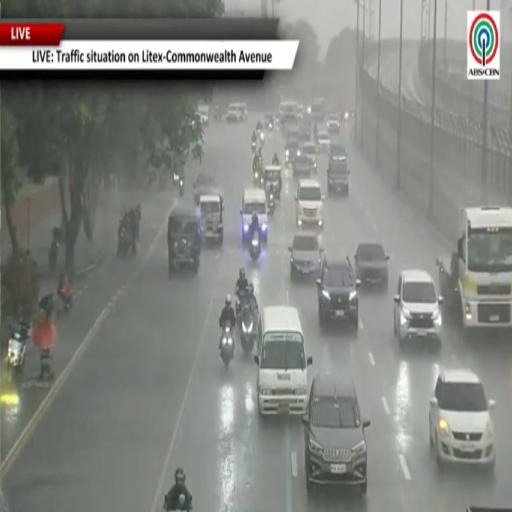car: (303, 374, 370, 493), (429, 370, 495, 470), (394, 269, 443, 348), (316, 256, 360, 331), (168, 206, 201, 276), (289, 232, 323, 280), (354, 243, 389, 289), (240, 189, 267, 244), (295, 180, 324, 228), (200, 195, 223, 245), (193, 173, 222, 205), (327, 158, 349, 196), (292, 147, 311, 178), (308, 98, 326, 122), (303, 141, 317, 171), (285, 138, 299, 165), (329, 142, 347, 161), (226, 104, 242, 122), (197, 104, 209, 127), (318, 132, 330, 153), (327, 115, 340, 133)
motorcycle: (6, 322, 32, 381), (220, 322, 234, 370), (241, 306, 254, 355), (117, 227, 137, 257), (56, 283, 74, 315), (48, 228, 61, 271), (165, 494, 193, 511), (40, 348, 53, 379), (236, 292, 247, 328), (249, 231, 261, 262), (48, 239, 59, 271), (268, 191, 275, 215), (160, 173, 167, 189), (179, 179, 184, 196), (173, 172, 179, 185), (259, 132, 264, 146), (275, 115, 280, 126), (252, 140, 256, 153), (268, 123, 273, 131)
truck: (437, 206, 511, 331)
